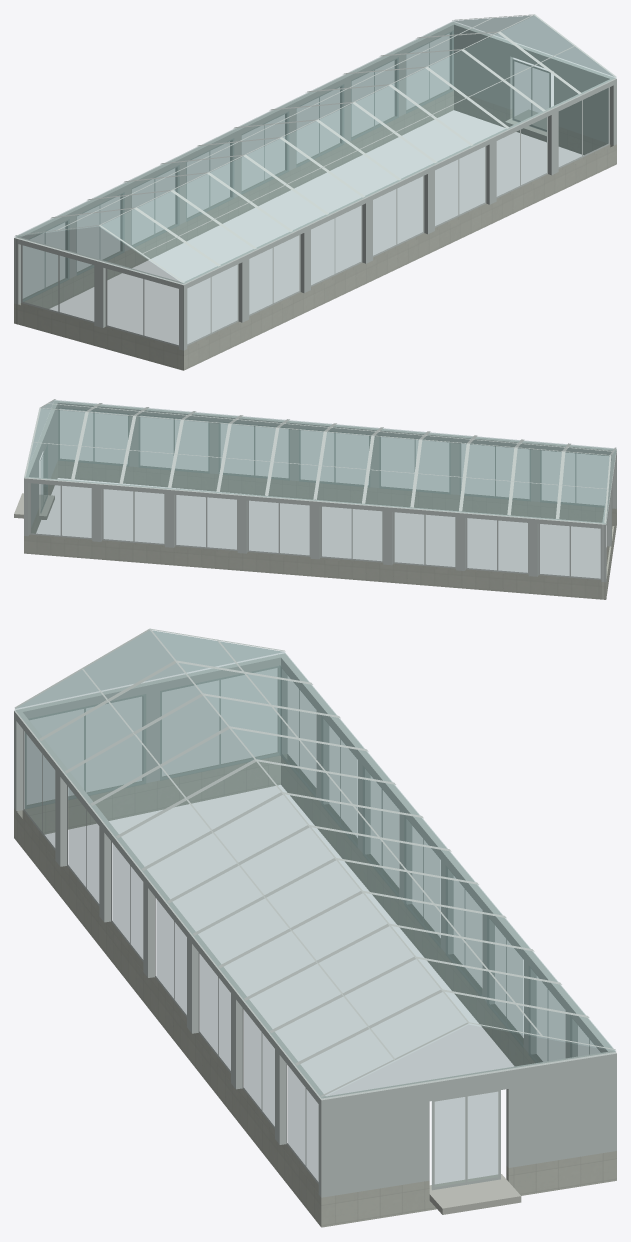
The picture shows the model from 3 angles, top to bottom: view 1: azimuth 30°, elevation 25°; view 2: azimuth 150°, elevation 25°; view 3: azimuth 270°, elevation 25°; orthographic projection. The views are drawn at different scales.
Visible parts, largest first — view 1: greenhouse1__glass, greenhouse1__frame, greenhouse1__wall, greenhouse1__threshold-entry; view 2: greenhouse1__glass, greenhouse1__frame, greenhouse1__wall, greenhouse1__threshold-entry; view 3: greenhouse1__glass, greenhouse1__frame, greenhouse1__wall, greenhouse1__threshold-entry.
Boxes of the visible parts, x1,y1,x2,y2 form: greenhouse1__glass: [15, 15, 616, 344]; greenhouse1__frame: [14, 14, 616, 350]; greenhouse1__wall: [14, 89, 616, 370]; greenhouse1__threshold-entry: [504, 109, 546, 140]; greenhouse1__glass: [24, 400, 616, 578]; greenhouse1__frame: [24, 399, 616, 582]; greenhouse1__wall: [24, 459, 616, 599]; greenhouse1__threshold-entry: [14, 493, 54, 519]; greenhouse1__glass: [15, 630, 615, 1186]; greenhouse1__frame: [14, 628, 616, 1197]; greenhouse1__wall: [14, 752, 616, 1227]; greenhouse1__threshold-entry: [429, 1174, 521, 1214].
Size of the model in its own units: 23.73 by 4.48 by 13.53.
Materials: 4 (1 with a texture image).
